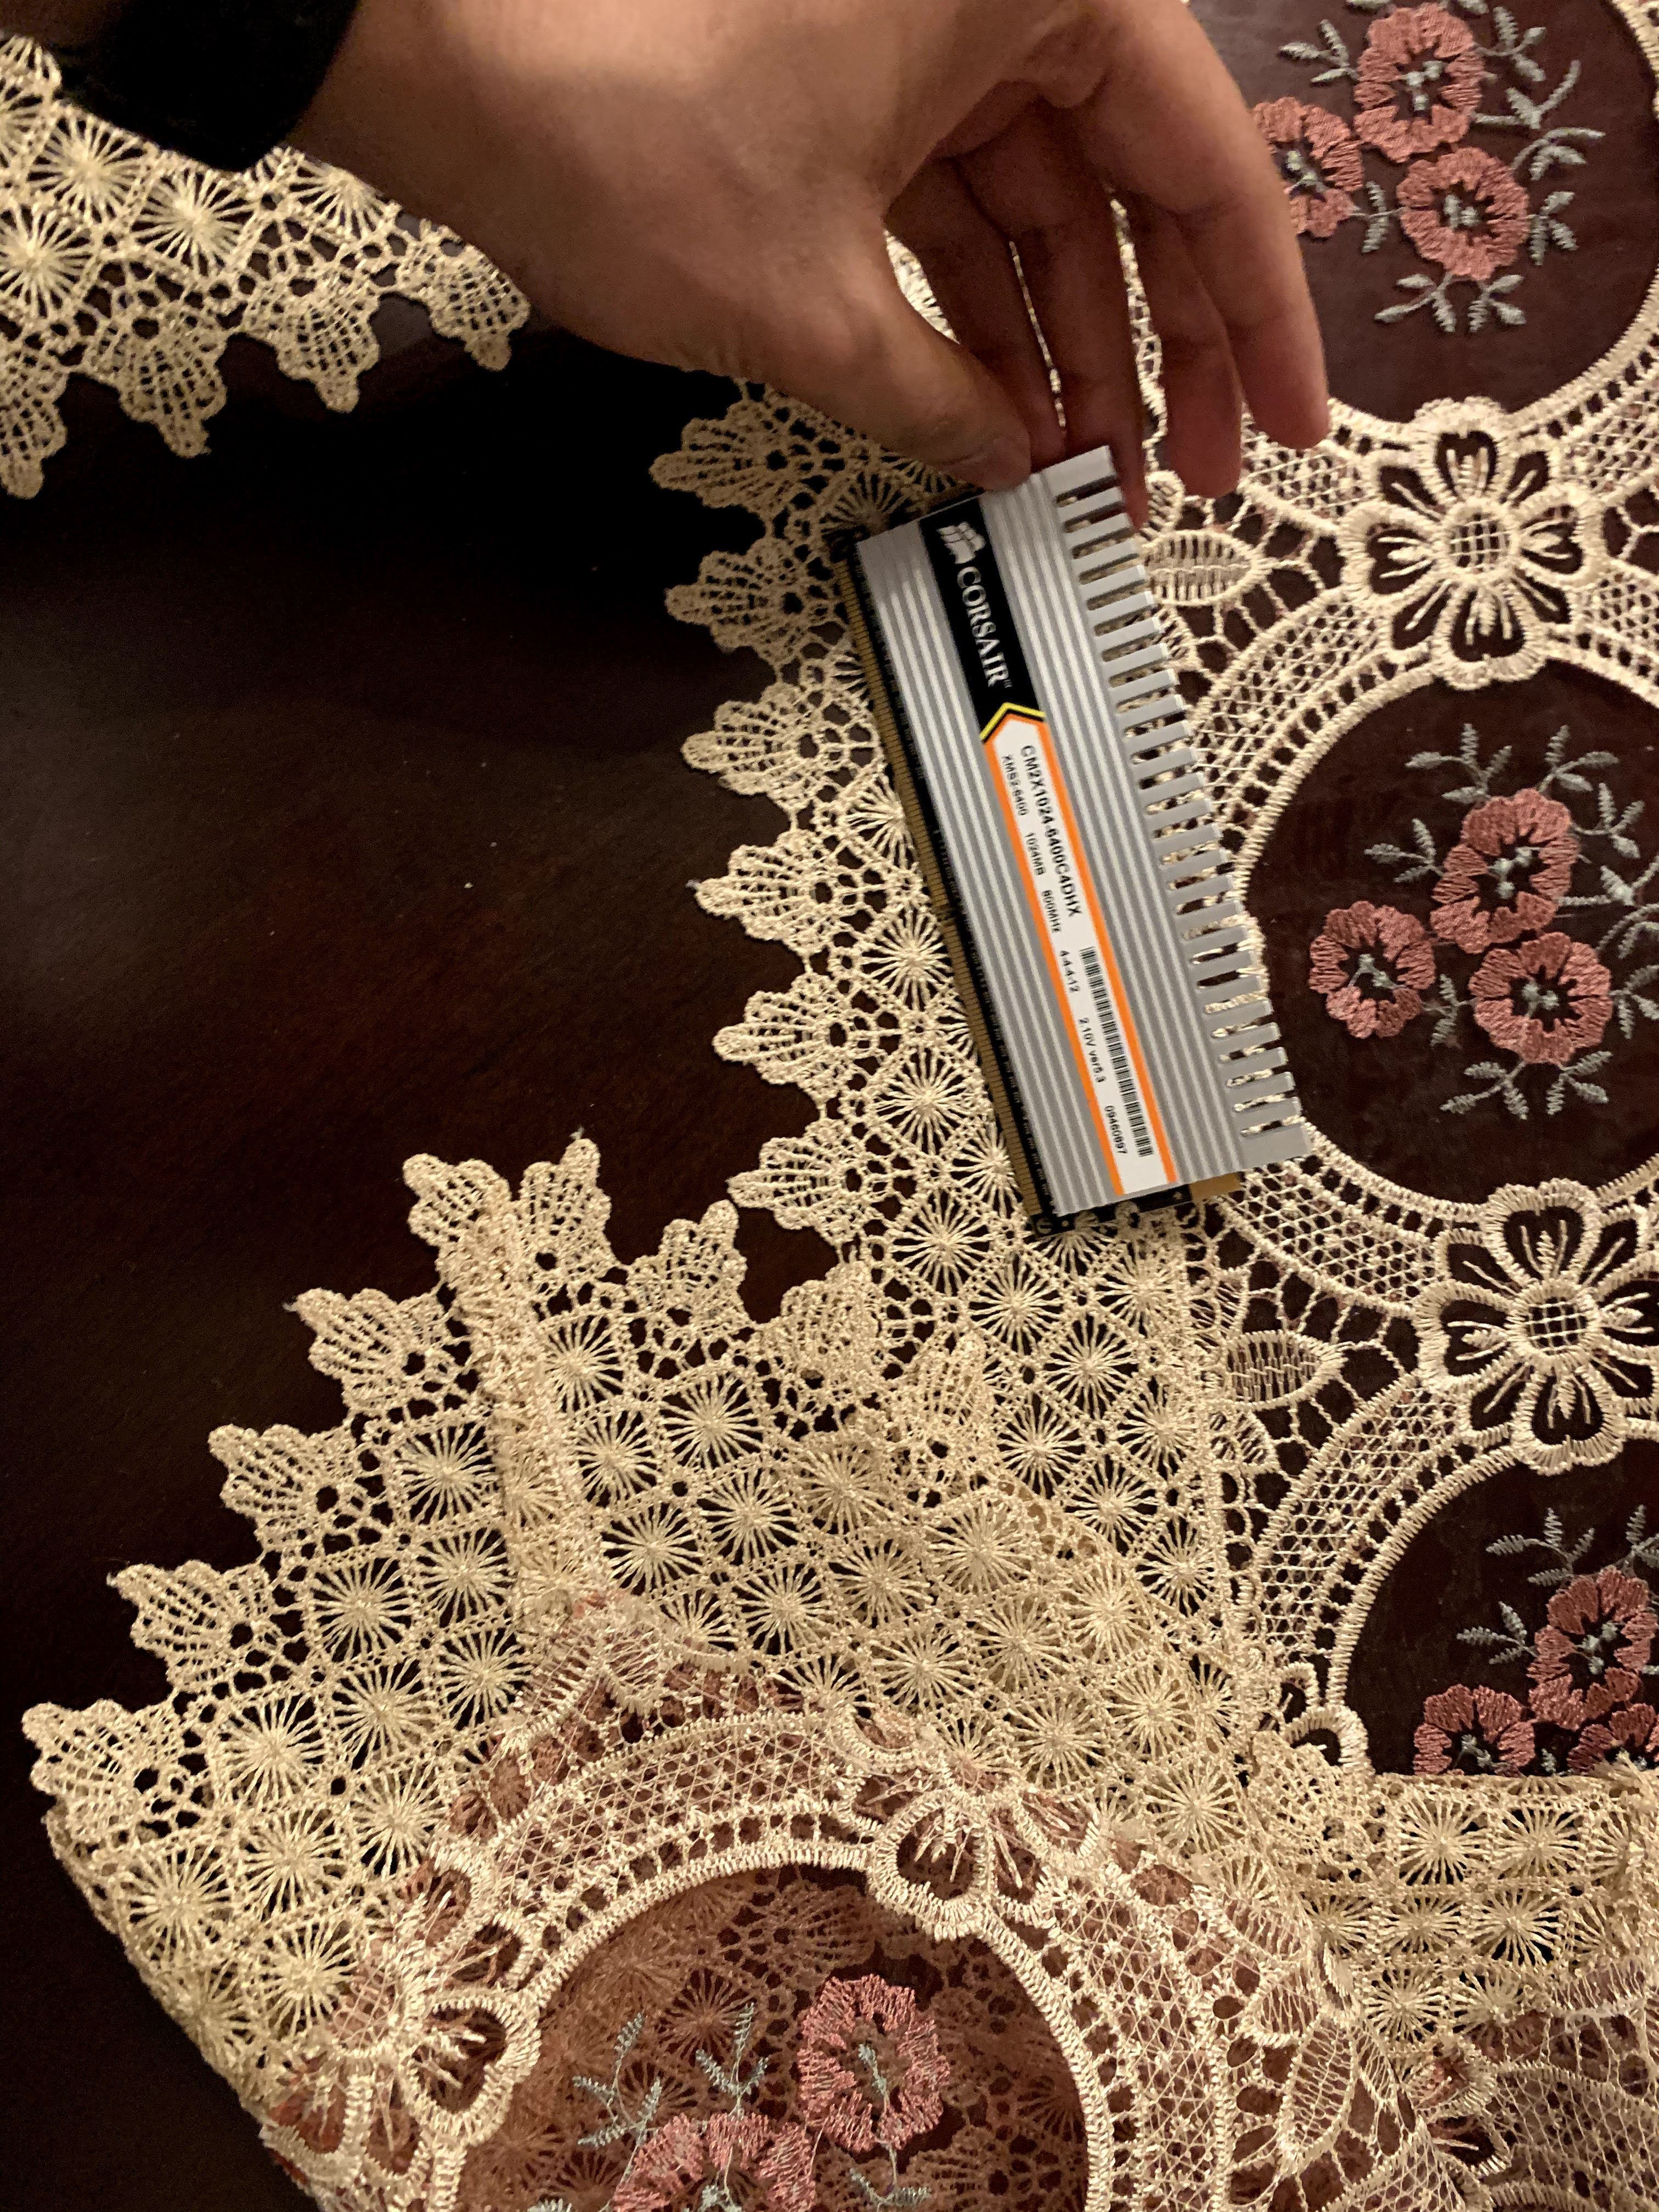Space-debris-medium: (805, 455, 1337, 1217)
